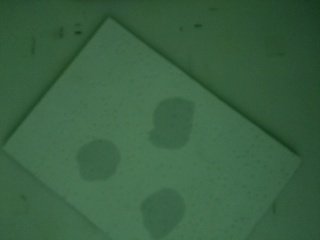Water_detected: (153, 101, 192, 142), (80, 149, 115, 176), (152, 196, 176, 217)
